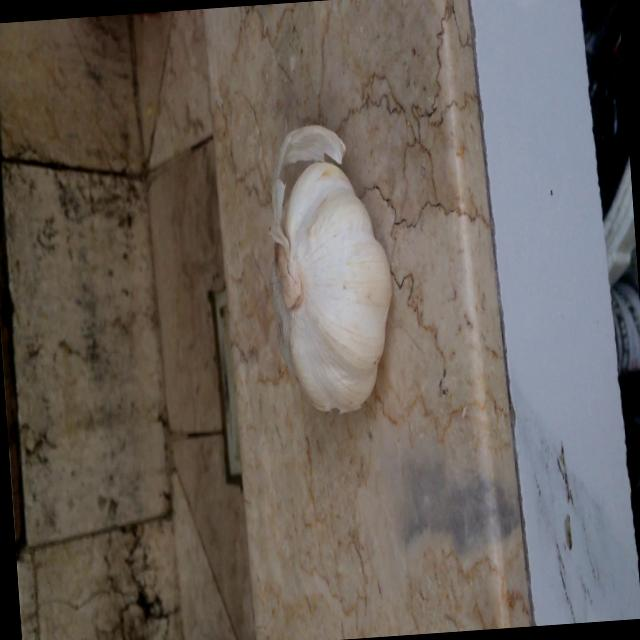bawang: (260, 119, 402, 418)
